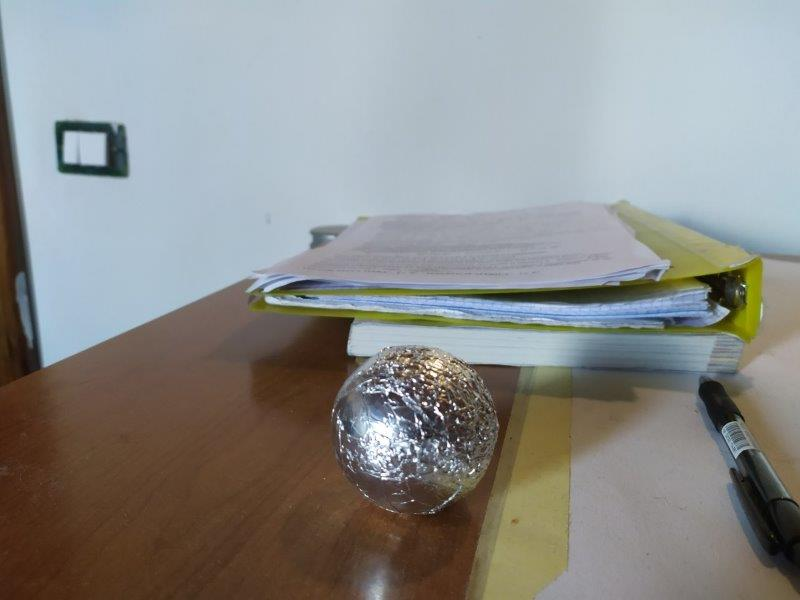bianca: (330, 344, 502, 519)
